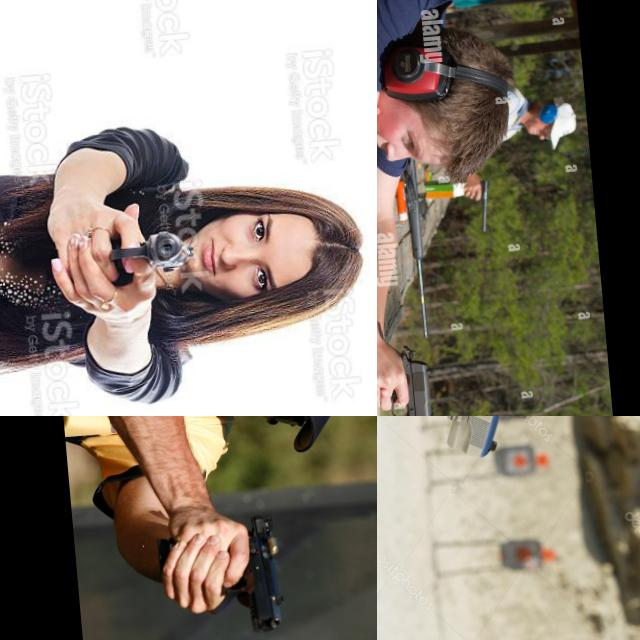handgun: (412, 416, 566, 538), (213, 508, 290, 640), (99, 227, 198, 280), (381, 341, 443, 416)
